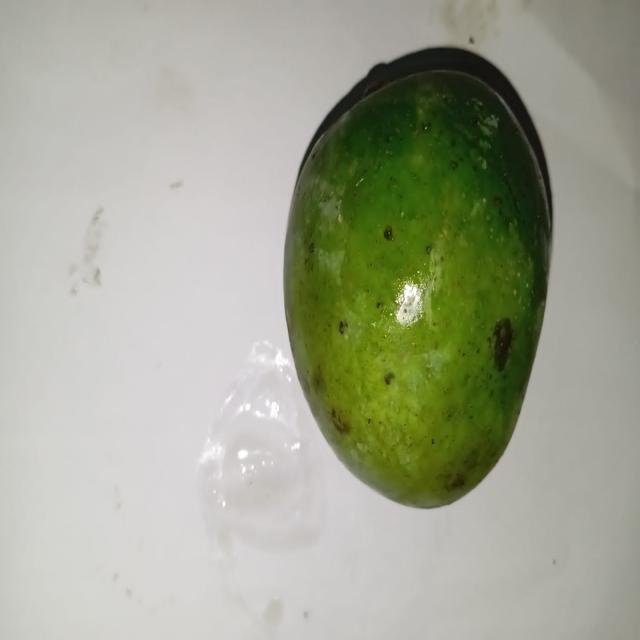rotten_mango: (284, 58, 552, 506)
